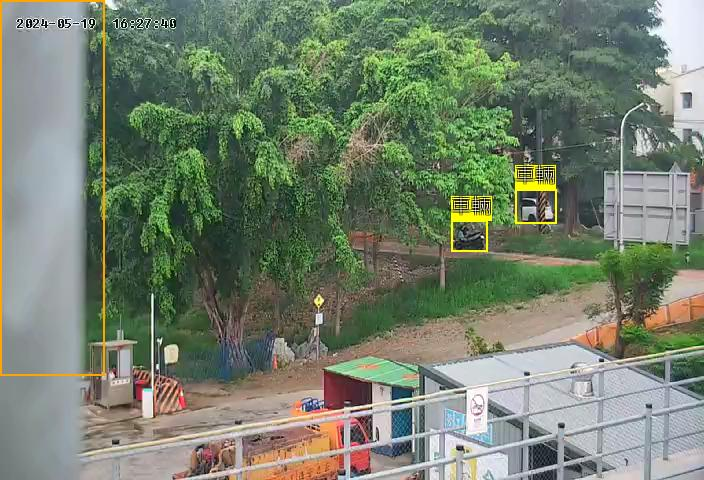Safety Cone: (177, 386, 188, 408), (272, 354, 280, 371)
machinery: (171, 405, 374, 480)
vehicle: (510, 196, 554, 221), (453, 223, 486, 250)
